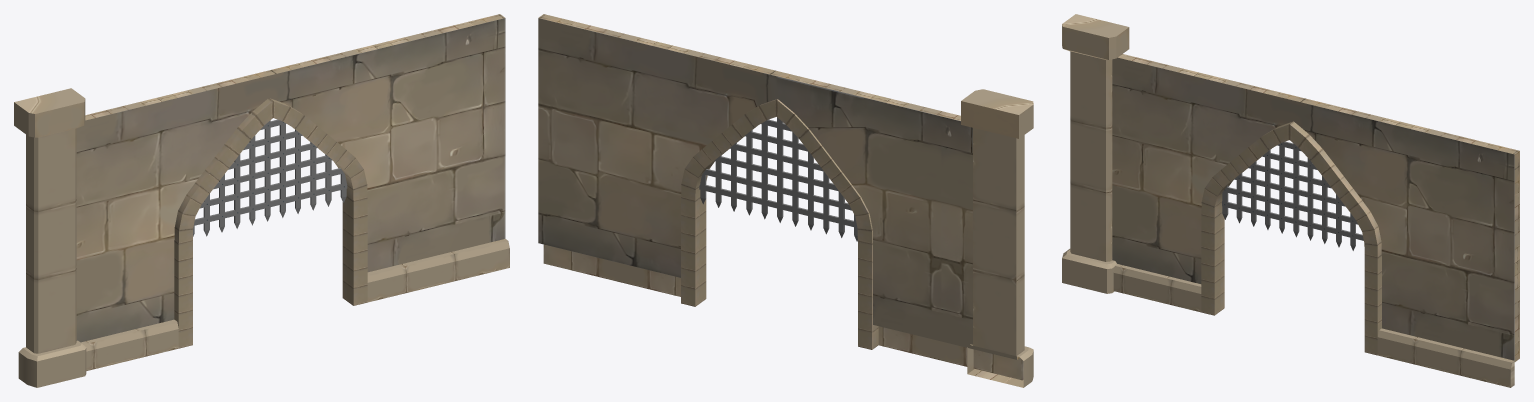
File: pintu-besar-besi.fbx
3 renders of one model, left to right at view 1: azimuth 30°, elevation 25°; view 2: azimuth 150°, elevation 25°; view 3: azimuth 330°, elevation 25°, orthographic. The views are drawn at different scales.
Parts seen in each view (by area): view 1: pintu-besar-besi; view 2: pintu-besar-besi; view 3: pintu-besar-besi.
Part boxes in pixels (x1,y1,x2,y2): pintu-besar-besi: (14,14,509,387); pintu-besar-besi: (538,14,1033,387); pintu-besar-besi: (1062,14,1519,387).
Size of the model in its own units: 10.2 by 5.53 by 0.6917.
Materials: 1 (1 with a texture image).
